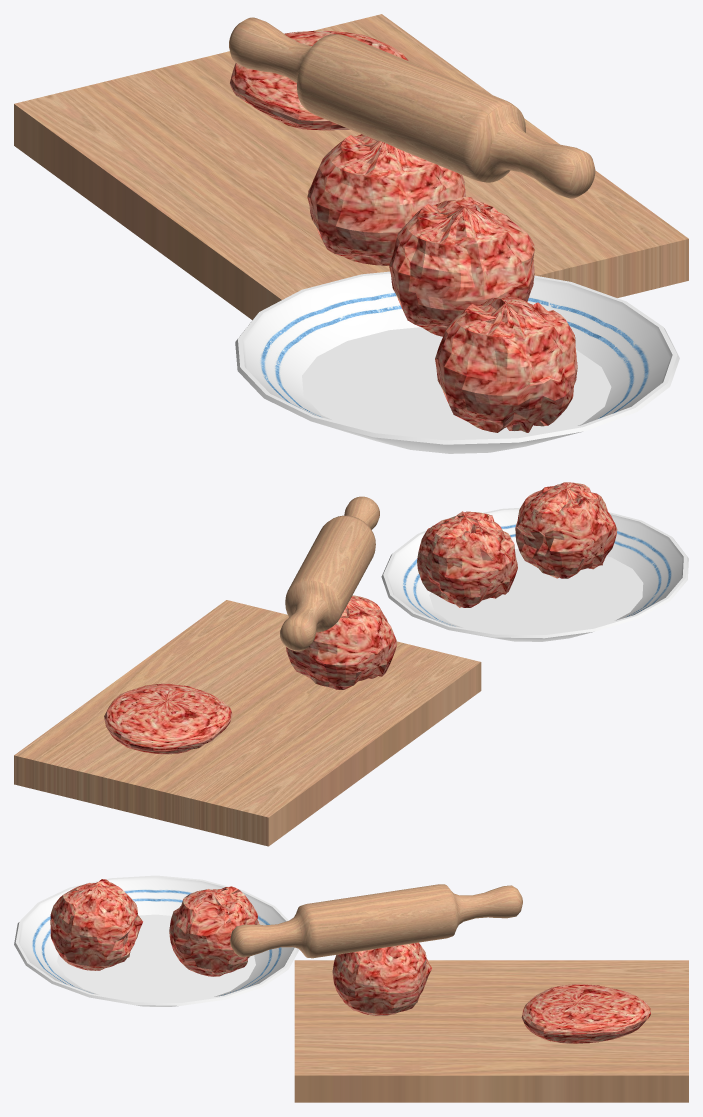
File: STEP 4 PIPIHKAN 0.fbx
3 renders of one model, top to bottom at view 1: azimuth 30°, elevation 25°; view 2: azimuth 150°, elevation 25°; view 3: azimuth 270°, elevation 25°, orthographic. The views are drawn at different scales.
Visible parts, largest first — view 1: Plane, Prato_Material #25_0, Cylinder__0, Sphere.002, Sphere.003, Sphere, Sphere.001; view 2: Plane, Prato_Material #25_0, Cylinder__0, Sphere.002, Sphere.003, Sphere.001, Sphere; view 3: Plane, Prato_Material #25_0, Cylinder__0, Sphere.002, Sphere.001, Sphere.003, Sphere.
Boxes of the visible parts, x1,y1,x2,y2 form: Plane: (14, 14, 688, 319); Prato_Material #25_0: (235, 271, 679, 453); Cylinder__0: (229, 17, 595, 198); Sphere.002: (435, 297, 577, 432); Sphere.003: (389, 197, 534, 336); Sphere: (307, 134, 465, 265); Sphere.001: (230, 31, 409, 130); Plane: (14, 600, 481, 846); Prato_Material #25_0: (381, 508, 688, 641); Cylinder__0: (280, 496, 379, 651); Sphere.002: (515, 482, 617, 578); Sphere.003: (417, 511, 517, 607); Sphere.001: (104, 683, 232, 754); Sphere: (286, 595, 396, 689); Plane: (294, 960, 688, 1102); Prato_Material #25_0: (14, 875, 299, 1006); Cylinder__0: (230, 884, 522, 958); Sphere.002: (50, 879, 142, 970); Sphere.001: (521, 984, 650, 1043); Sphere.003: (169, 886, 259, 976); Sphere: (332, 942, 431, 1015).
Bounding box in the file's own units: 306 × 120 × 523.
Materials: 6 (6 with a texture image).
